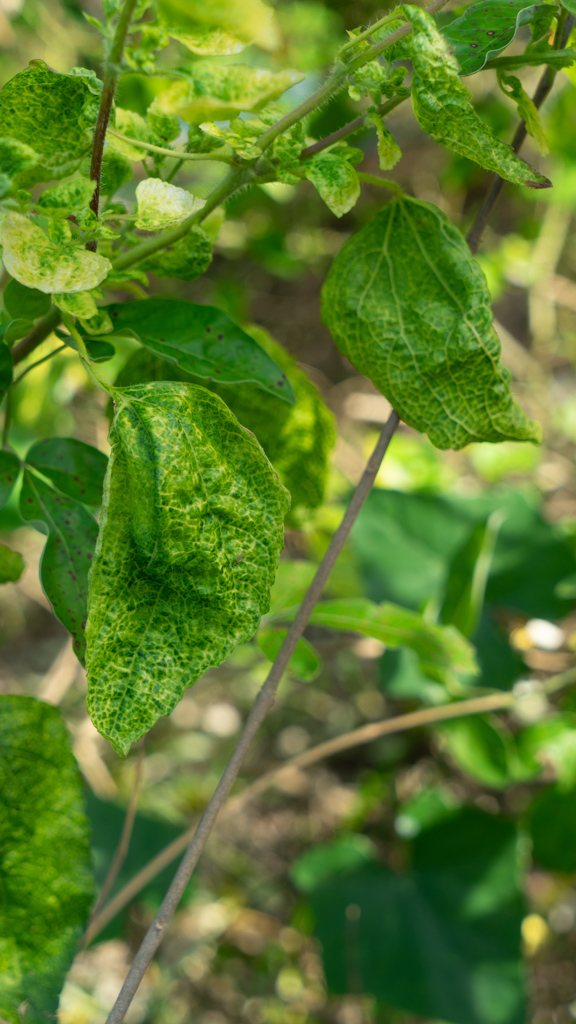Leaf Curl Disease: (84, 371, 291, 787), (330, 197, 549, 472), (1, 57, 115, 292), (391, 38, 563, 190)
